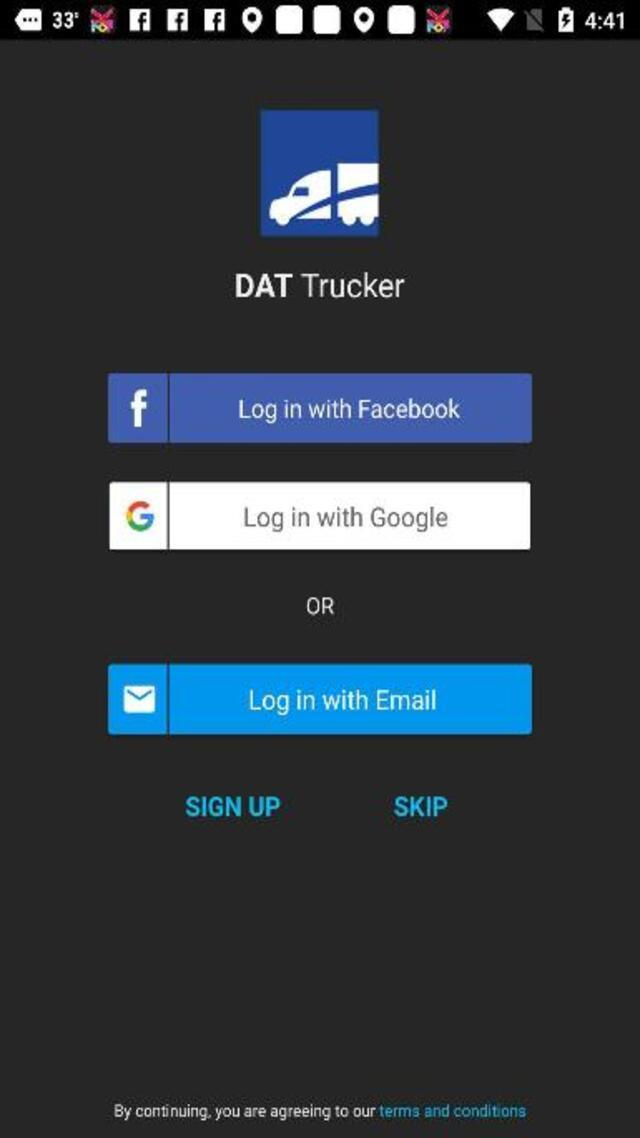Image: (258, 110, 379, 240), (124, 386, 150, 430), (124, 497, 154, 533), (121, 684, 158, 713)
Text: (116, 1102, 526, 1120), (235, 394, 466, 424), (237, 503, 452, 533), (245, 687, 440, 716), (233, 269, 408, 301), (185, 797, 280, 818), (394, 795, 447, 816), (307, 598, 335, 616)
TextButton: (107, 664, 531, 734), (107, 372, 531, 441), (108, 481, 530, 550)
